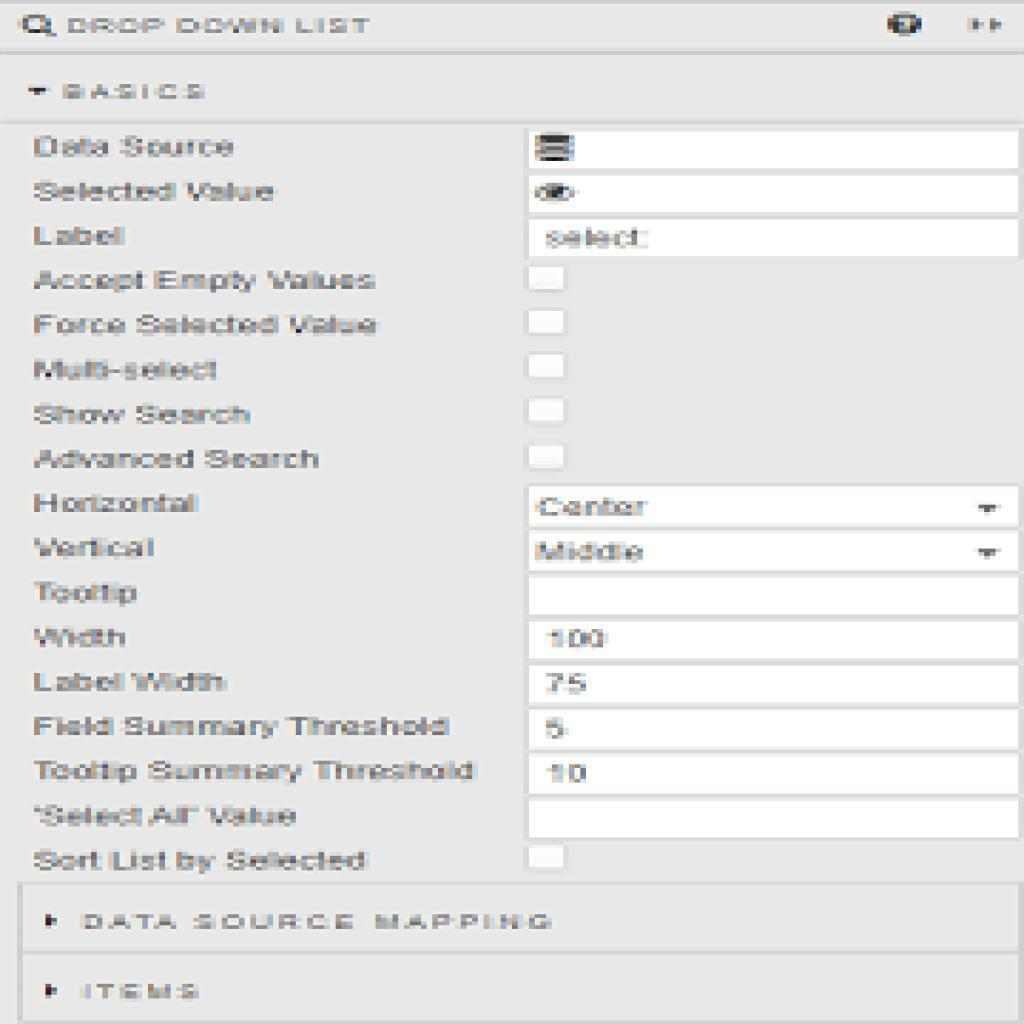button: (528, 709, 1019, 750), (527, 578, 1022, 617), (526, 623, 1021, 661), (528, 666, 1021, 704), (528, 756, 1019, 794), (527, 220, 1020, 257), (531, 800, 1018, 837)
checkbox: (526, 264, 570, 297), (526, 845, 570, 872), (526, 352, 565, 382), (525, 400, 568, 427), (524, 309, 567, 335), (525, 447, 566, 472)
dropdown: (528, 487, 1019, 530), (529, 533, 1022, 574)
icon: (881, 7, 931, 40), (535, 133, 580, 167), (537, 177, 584, 209)
input: (528, 130, 1020, 172), (528, 176, 1020, 213)
label: (33, 758, 482, 786), (33, 713, 454, 742), (25, 846, 371, 876), (30, 312, 383, 340), (30, 268, 381, 295), (30, 801, 301, 832), (34, 447, 323, 474), (34, 181, 280, 207), (31, 356, 225, 387), (33, 134, 240, 163), (33, 669, 230, 699), (33, 402, 256, 426), (32, 491, 202, 517), (34, 532, 166, 563), (39, 579, 140, 610), (30, 223, 131, 251), (34, 625, 130, 652)
